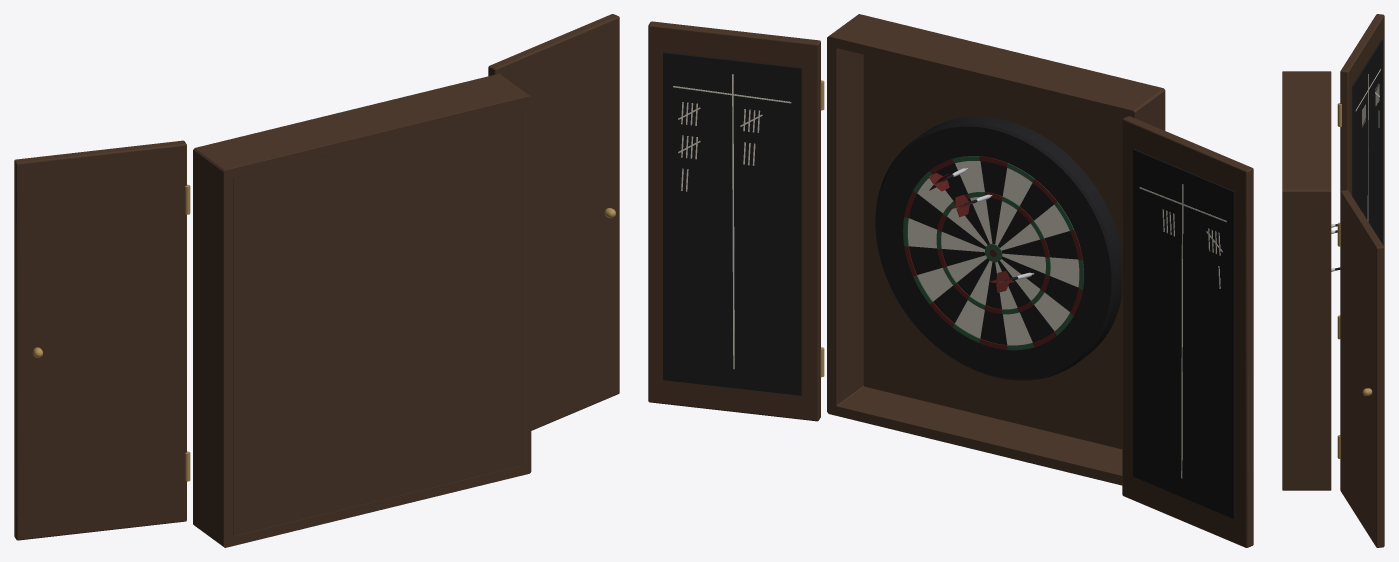
Rendered from dartboard.glb.
3 renders of one model, left to right at view 1: azimuth 30°, elevation 25°; view 2: azimuth 150°, elevation 25°; view 3: azimuth 270°, elevation 25°, orthographic. The views are drawn at different scales.
Parts seen in each view (by area): view 1: dartboard; view 2: dartboard, darts; view 3: dartboard.
Part boxes in pixels (box(x1,y1,x2,y2)): dartboard: box(14, 14, 619, 547); dartboard: box(648, 14, 1253, 547); darts: box(928, 168, 1033, 292); dartboard: box(1282, 14, 1384, 547).
Bounding box in the file's own units: 1.14 × 0.68 × 0.2093.
